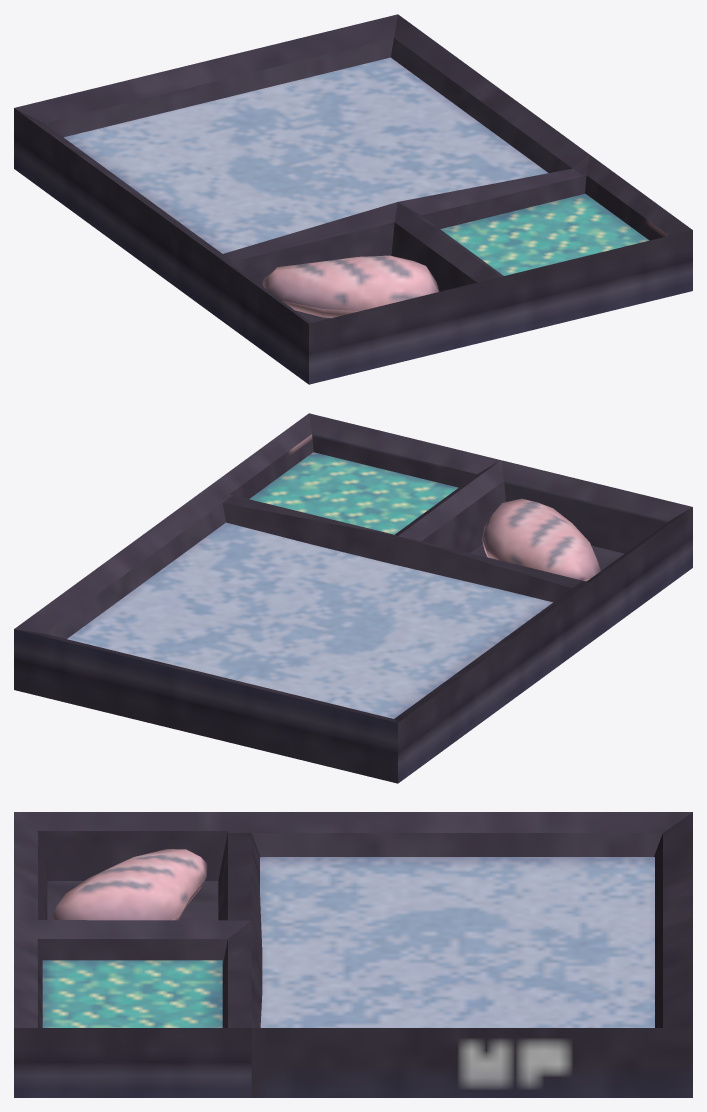
Rendered from MealPrep_Uncooked.fbx.
The picture shows the model from 3 angles, top to bottom: view 1: azimuth 30°, elevation 25°; view 2: azimuth 150°, elevation 25°; view 3: azimuth 270°, elevation 25°; orthographic projection. The views are drawn at different scales.
Visible parts, largest first — view 1: MealPrep_Box_Uncooked; view 2: MealPrep_Box_Uncooked; view 3: MealPrep_Box_Uncooked.
Part boxes in pixels (x1,y1,x2,y2): MealPrep_Box_Uncooked: [14, 14, 692, 384]; MealPrep_Box_Uncooked: [14, 413, 692, 783]; MealPrep_Box_Uncooked: [14, 812, 692, 1097].
Size of the model in its own units: 93.79 by 14.19 by 125.
